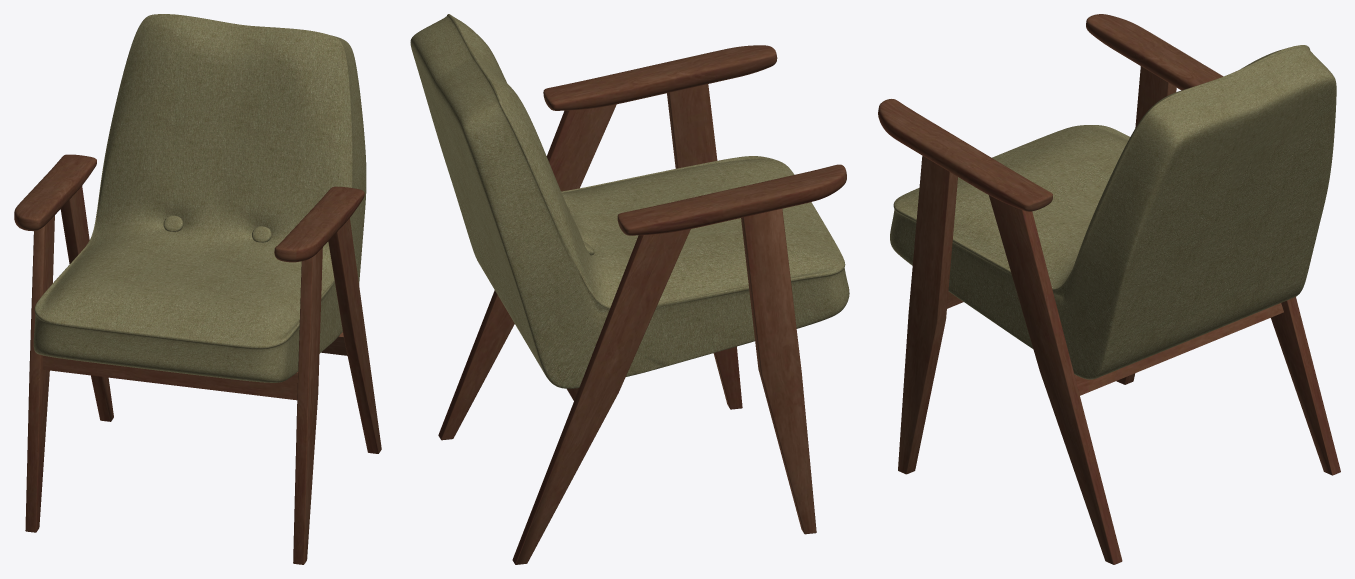
The model's file is armchair_366_hectopod.glb.
The picture shows the model from 3 angles, left to right: view 1: azimuth 30°, elevation 25°; view 2: azimuth 150°, elevation 25°; view 3: azimuth 270°, elevation 25°; orthographic projection. The views are drawn at different scales.
Parts seen in each view (by area): view 1: Object_6, Object_4; view 2: Object_6, Object_4; view 3: Object_6, Object_4.
Boxes of the visible parts, box(x1,y1,x2,y2) form: Object_6: box(33, 14, 366, 382); Object_4: box(14, 154, 381, 564); Object_6: box(410, 14, 849, 388); Object_4: box(438, 45, 846, 564); Object_6: box(890, 45, 1336, 379); Object_4: box(878, 14, 1340, 564).
Bounding box in the file's own units: 0.7179 × 0.7651 × 0.717.
Materials: 2 (2 with a texture image).
